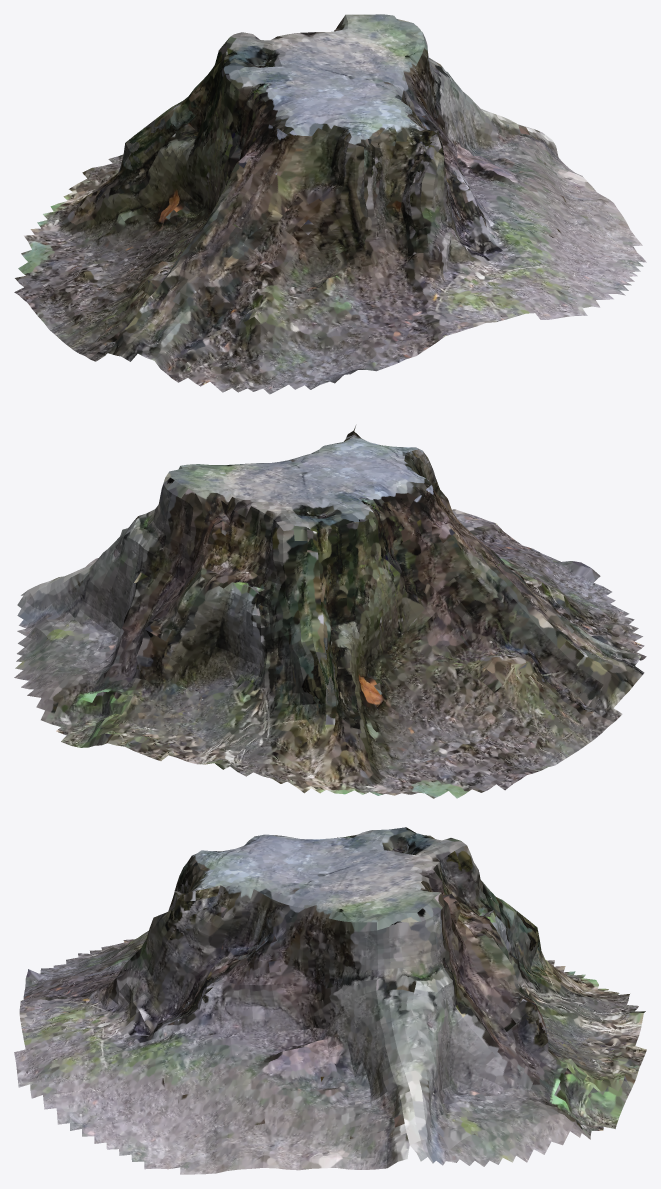
The model's file is TreeStump.glb.
3 views of the same model, one above another, from view 1: azimuth 30°, elevation 25°; view 2: azimuth 150°, elevation 25°; view 3: azimuth 270°, elevation 25° (orthographic). The views are drawn at different scales.
Visible parts, largest first — view 1: Stump001_1k; view 2: Stump001_1k; view 3: Stump001_1k.
Part boxes in pixels (left/top/right/bottom): Stump001_1k: left=14, top=14, right=646, bottom=394; Stump001_1k: left=14, top=425, right=646, bottom=798; Stump001_1k: left=14, top=827, right=646, bottom=1174.
Bounding box in the file's own units: 1.14 × 0.4404 × 1.12.
1 material, 1 textured.
